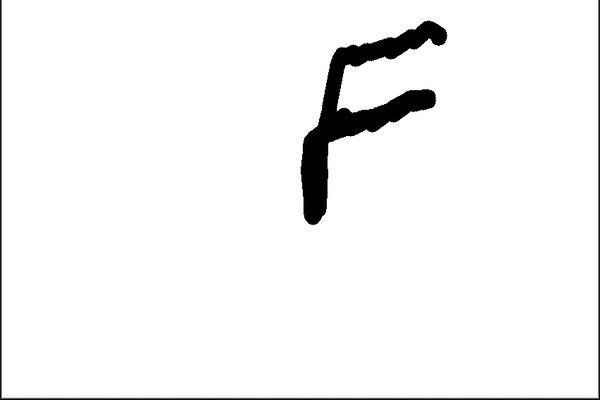F: (294, 15, 450, 229)
